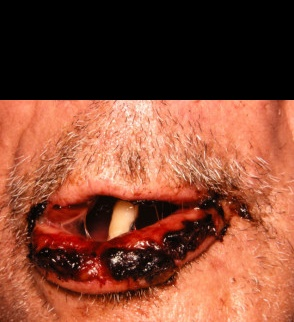SJS-TEN: (9, 174, 274, 322)
